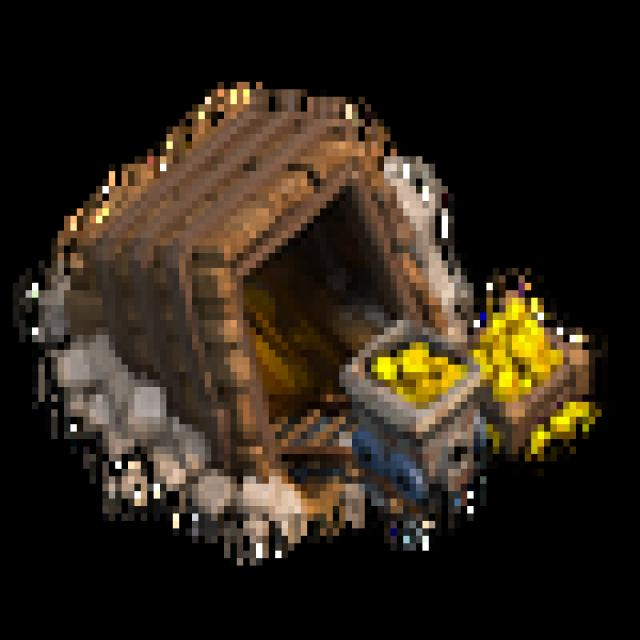gold_mine: (15, 70, 633, 566)
